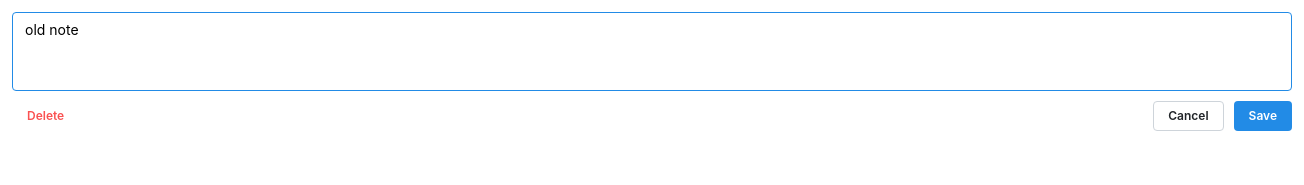
WorkLogEditor › shows a failed save and stays open
Type "!" into the text box named "Work log note" at (652,52), box [12, 12, 1292, 91]
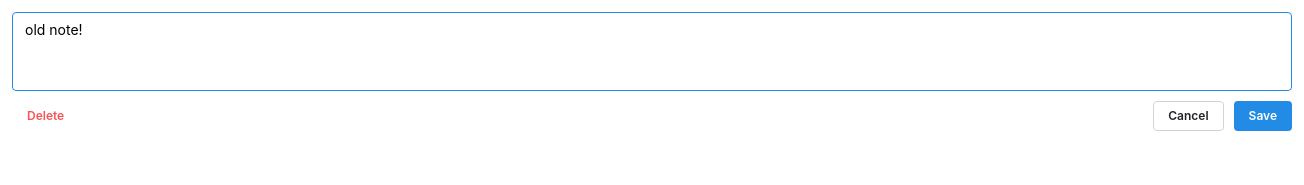
Click the button "Save" at (1263,116), box [1234, 101, 1292, 131]
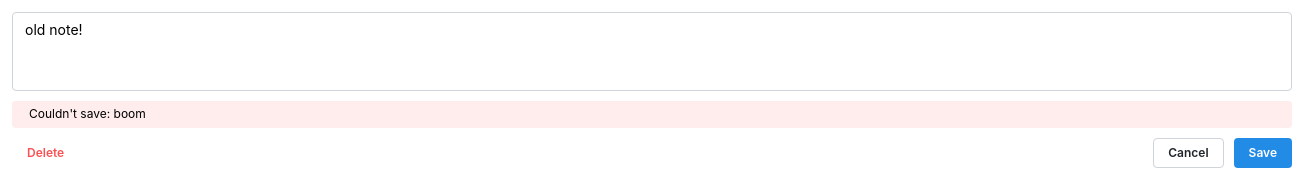
Check: the text "Couldn't save: boom" is shown, box [29, 106, 146, 121]
